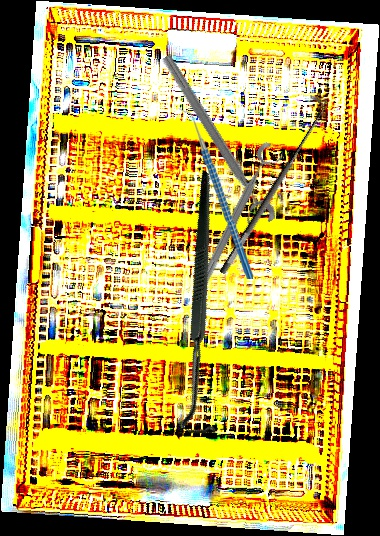Chopper: (177, 106, 254, 281)
Fixation Ring: (148, 50, 279, 234), (192, 140, 287, 297)
Hook Surgical: (82, 169, 330, 445), (205, 94, 333, 277)
